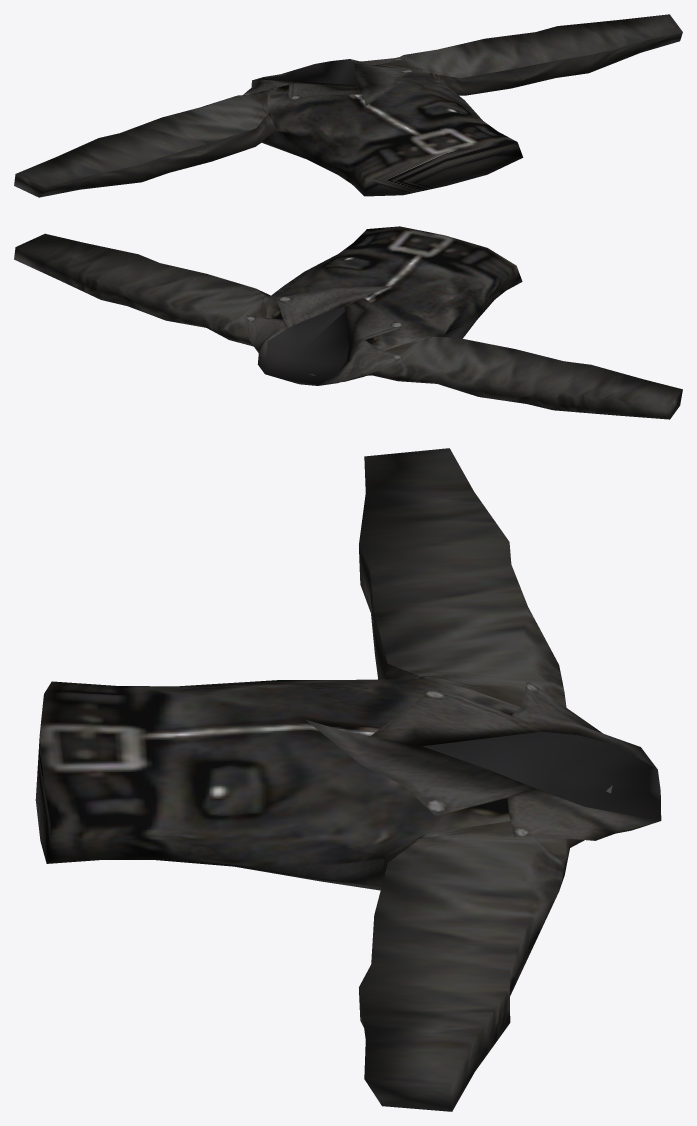
File: KOS_Ground.fbx
3 renders of one model, top to bottom at view 1: azimuth 30°, elevation 25°; view 2: azimuth 150°, elevation 25°; view 3: azimuth 270°, elevation 25°, orthographic. The views are drawn at different scales.
Parts seen in each view (by area): view 1: Body.029; view 2: Body.029; view 3: Body.029.
Boxes of the visible parts, bbox=[...] form: Body.029: bbox=[14, 14, 682, 197]; Body.029: bbox=[14, 226, 682, 419]; Body.029: bbox=[35, 448, 661, 1111].
Bounding box in the file's own units: 0.7586 × 0.0477 × 0.3132.
